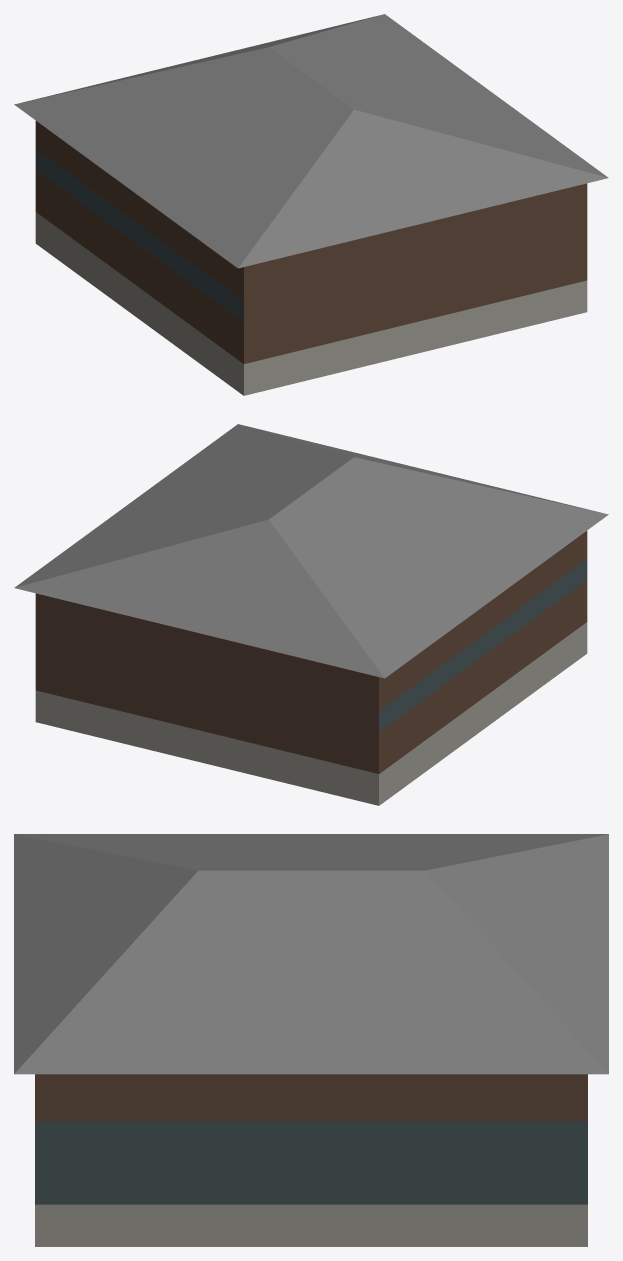
The model's file is far.fbx.
3 renders of one model, top to bottom at view 1: azimuth 30°, elevation 25°; view 2: azimuth 150°, elevation 25°; view 3: azimuth 270°, elevation 25°, orthographic. The views are drawn at different scales.
Visible parts, largest first — view 1: a2000s3/800/far; view 2: a2000s3/800/far; view 3: a2000s3/800/far.
Part boxes in pixels (box(x1,y1,x2,y2)): a2000s3/800/far: box(14, 14, 608, 395); a2000s3/800/far: box(14, 424, 608, 805); a2000s3/800/far: box(14, 834, 608, 1246).
Bounding box in the file's own units: 10.8 × 5.55 × 11.3.
